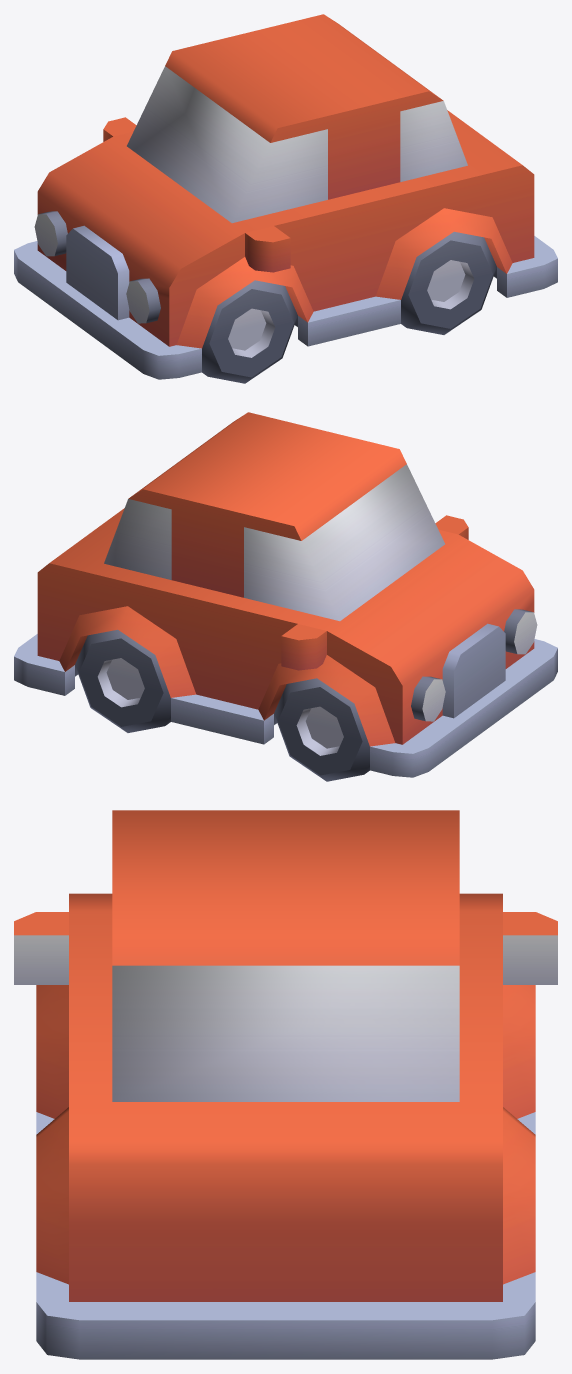
File: kenney-prototype-vehicle.glb
3 renders of one model, top to bottom at view 1: azimuth 30°, elevation 25°; view 2: azimuth 150°, elevation 25°; view 3: azimuth 270°, elevation 25°, orthographic. The views are drawn at different scales.
Visible parts, largest first — view 1: wheel-back-left; view 2: wheel-back-left; view 3: wheel-back-left.
Boxes of the visible parts, x1=… form: wheel-back-left: x1=14, y1=14, x2=557, y2=383; wheel-back-left: x1=14, y1=412, x2=557, y2=781; wheel-back-left: x1=14, y1=810, x2=557, y2=1359.
Bounding box in the file's own units: 1.42 × 0.7771 × 0.9901.
1 material, 1 textured.
